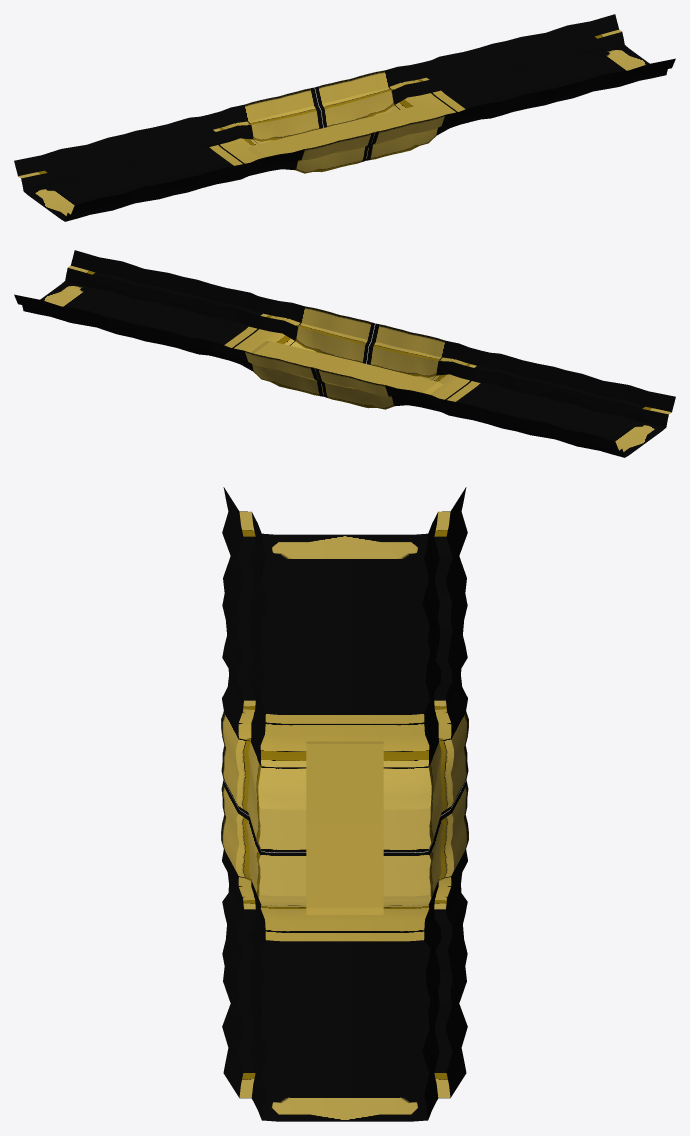
Rendered from bridge.FBX.
3 renders of one model, top to bottom at view 1: azimuth 30°, elevation 25°; view 2: azimuth 150°, elevation 25°; view 3: azimuth 270°, elevation 25°, orthographic. The views are drawn at different scales.
Visible parts, largest first — view 1: Wall, Ground; view 2: Wall, Ground; view 3: Ground, Wall, Water.
Boxes of the visible parts, x1,y1,x2,y2 form: Wall: (14, 14, 675, 221); Ground: (24, 45, 649, 221); Wall: (14, 250, 675, 457); Ground: (40, 281, 665, 457); Ground: (258, 533, 431, 1121); Wall: (221, 487, 468, 1119); Water: (258, 808, 431, 896).
Size of the model in its own units: 400 by 23.4 by 71.42.
1 material, 1 textured.
